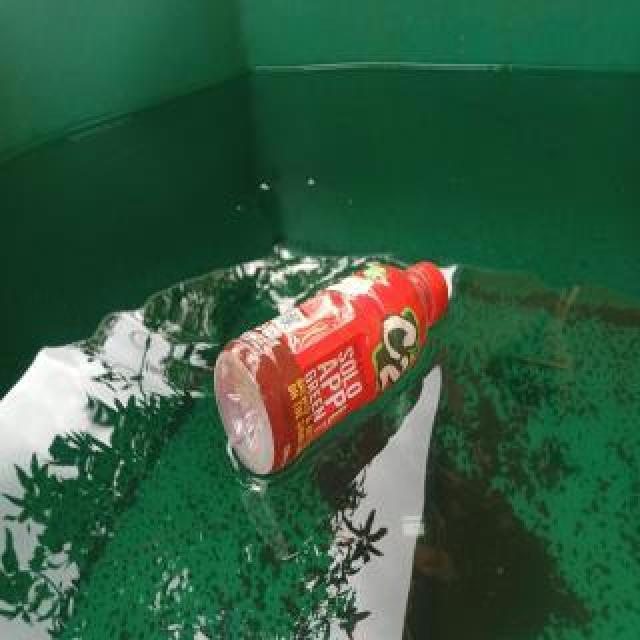bottle: (214, 254, 452, 480)
